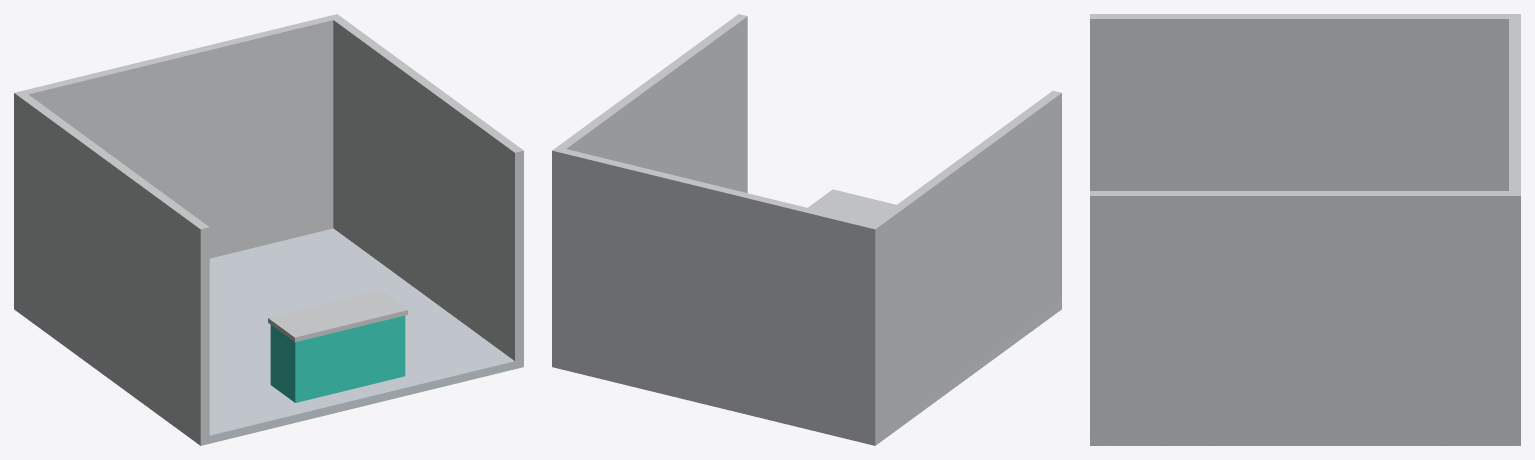
The picture shows the model from 3 angles, left to right: view 1: azimuth 30°, elevation 25°; view 2: azimuth 150°, elevation 25°; view 3: azimuth 270°, elevation 25°; orthographic projection. The views are drawn at different scales.
Parts seen in each view (by area): view 1: Exhibition Booth Concept; view 2: Exhibition Booth Concept; view 3: Exhibition Booth Concept.
Part boxes in pixels (x1,y1,x2,y2): Exhibition Booth Concept: (14,14,523,445); Exhibition Booth Concept: (552,14,1061,445); Exhibition Booth Concept: (1090,14,1520,445).
Bounding box in the file's own units: 5 × 3.2 × 5.
